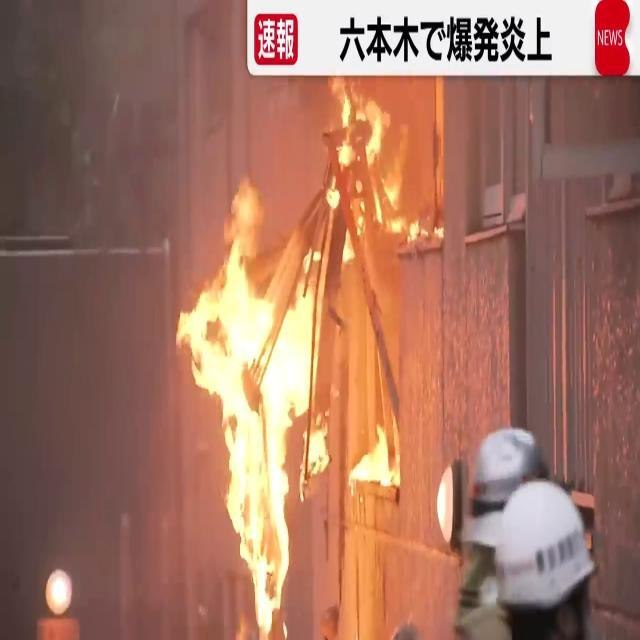Fire: (176, 85, 428, 628)
